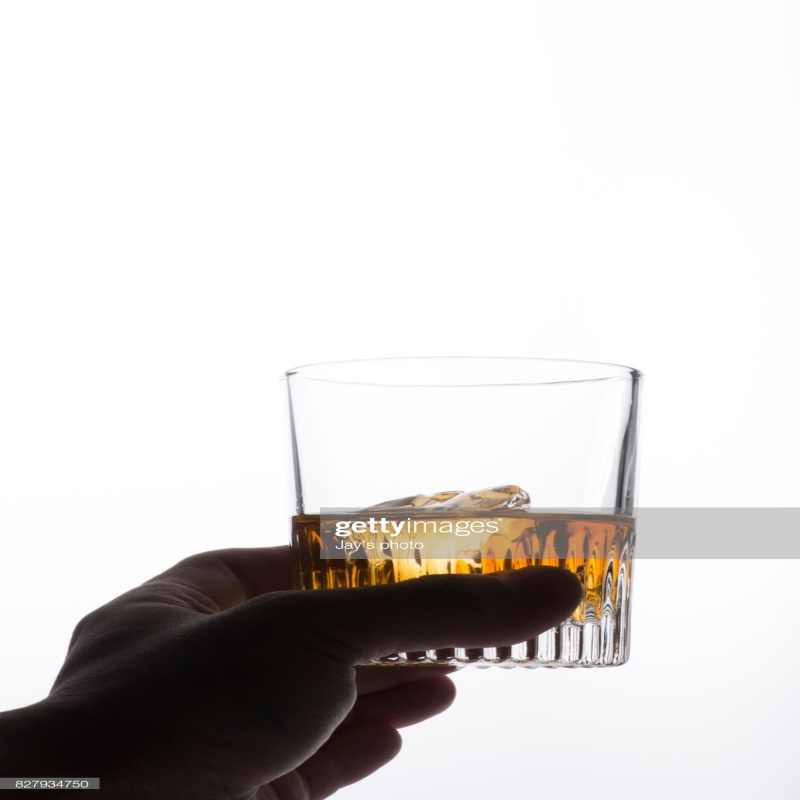whiskey: (277, 355, 633, 660)
